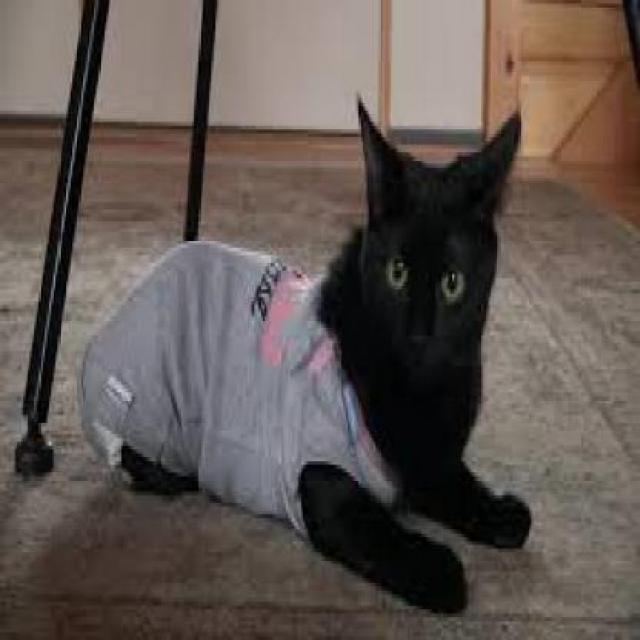animals: (80, 92, 538, 613)
